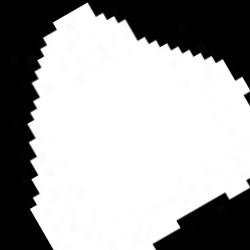spot: (29, 3, 249, 249)
